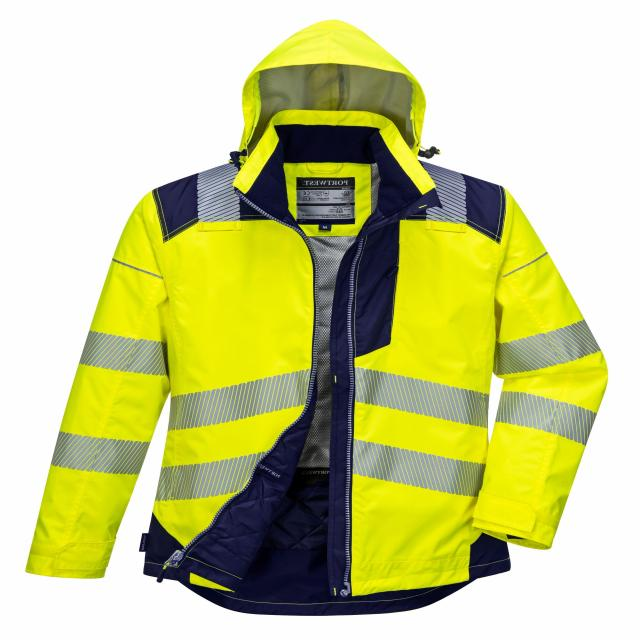Reflective-Jacket: (24, 126, 624, 617), (229, 21, 436, 198)
